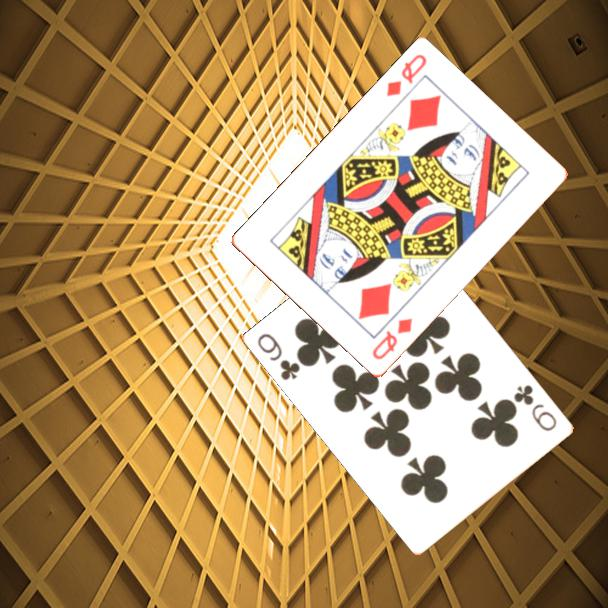c09: (254, 330, 304, 384), (510, 381, 560, 434)
d12: (383, 51, 430, 100), (369, 315, 415, 363)
